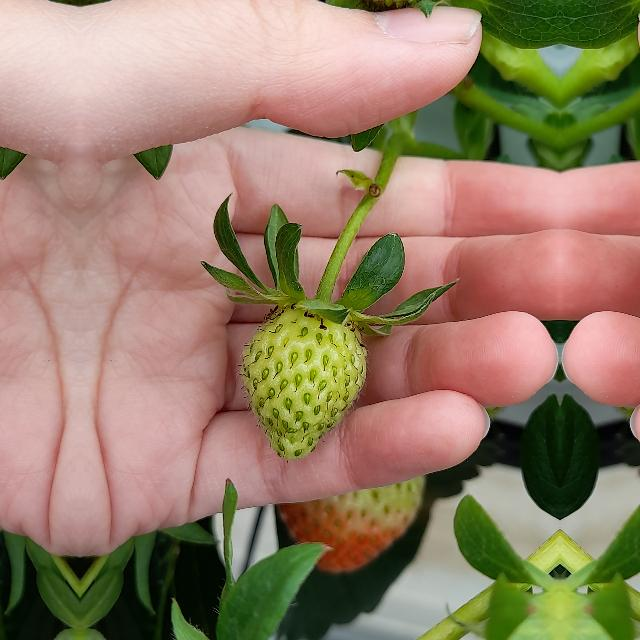Health_25: (240, 307, 366, 459)
Health_50: (274, 469, 428, 569)
